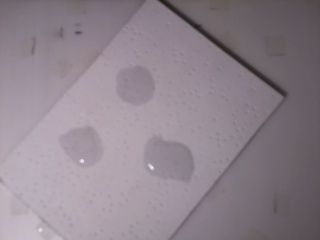Water_detected: (154, 145, 191, 178), (120, 76, 148, 112), (72, 126, 99, 162)
